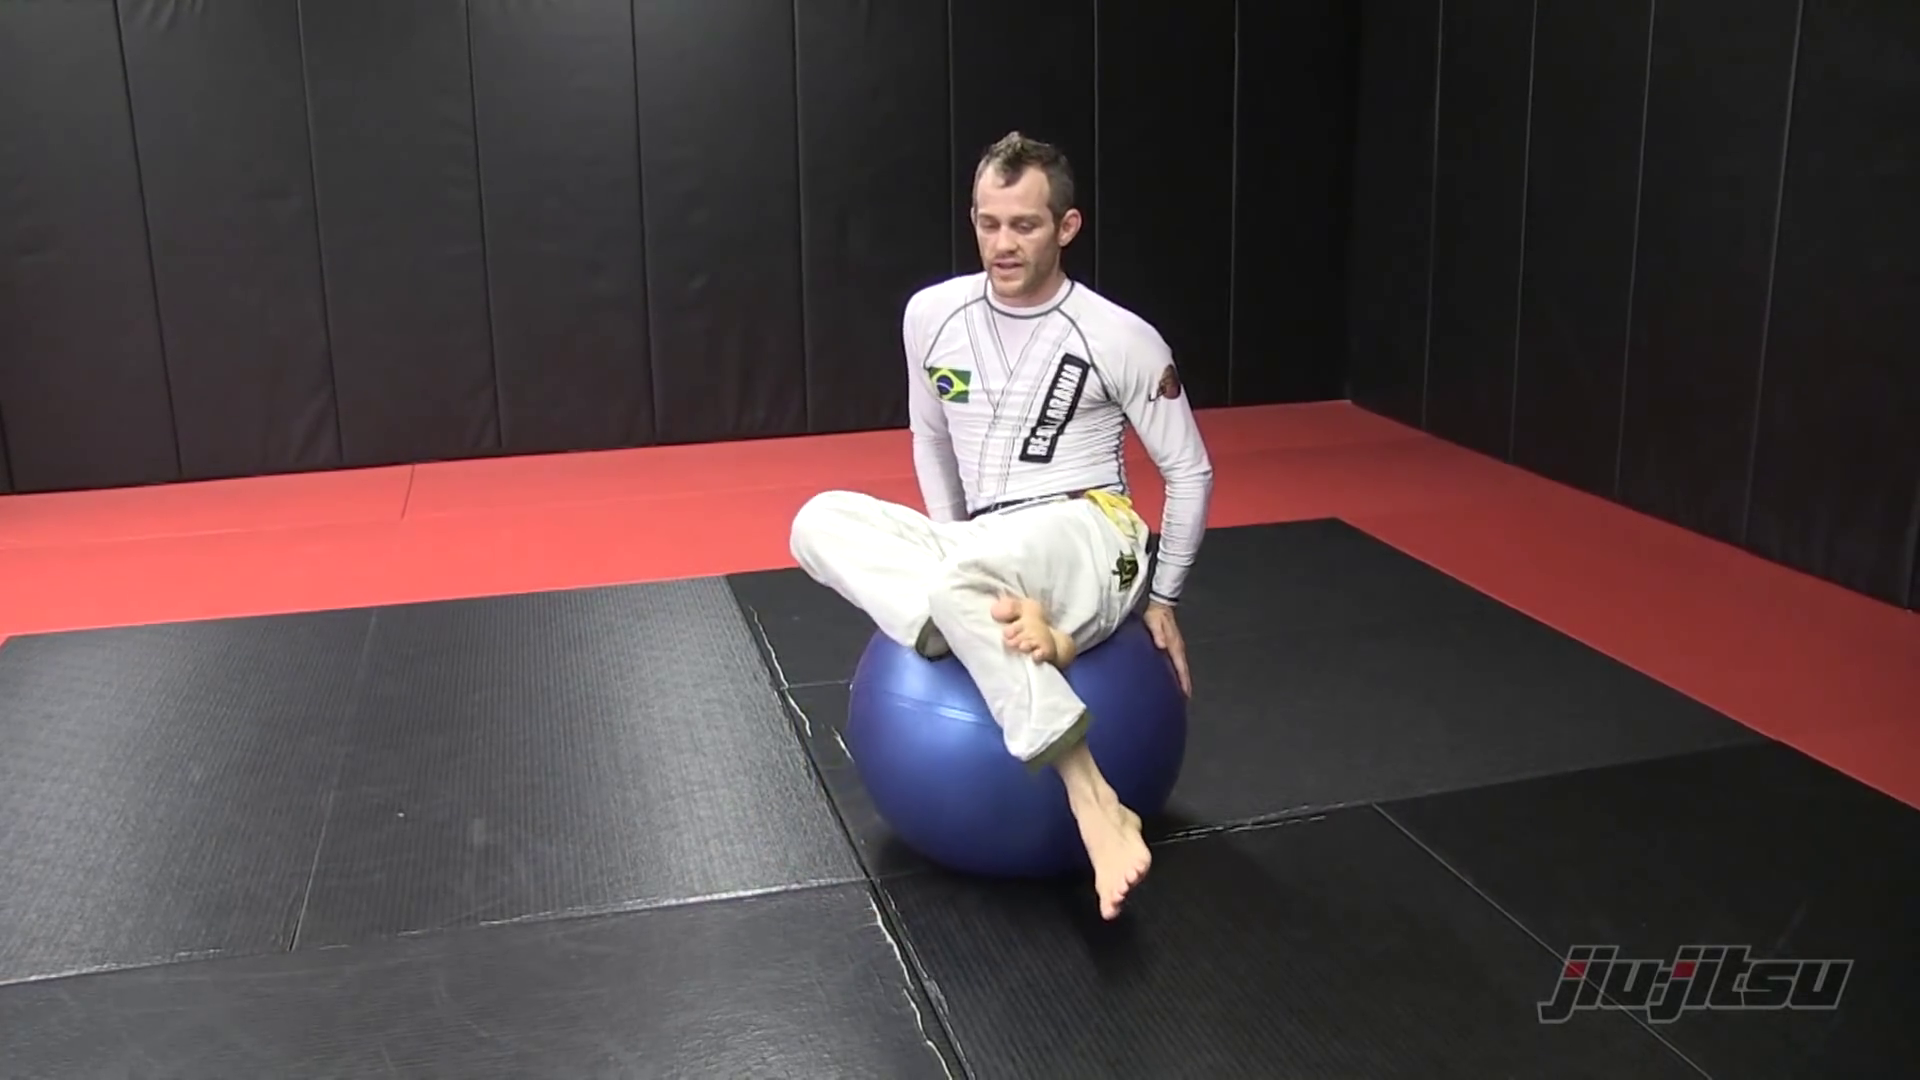yogaball: (827, 578, 1208, 897)
